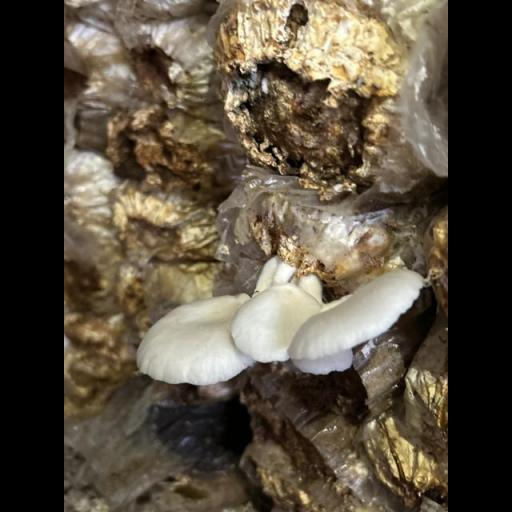White Oyster Mushroom: (128, 255, 433, 394)
